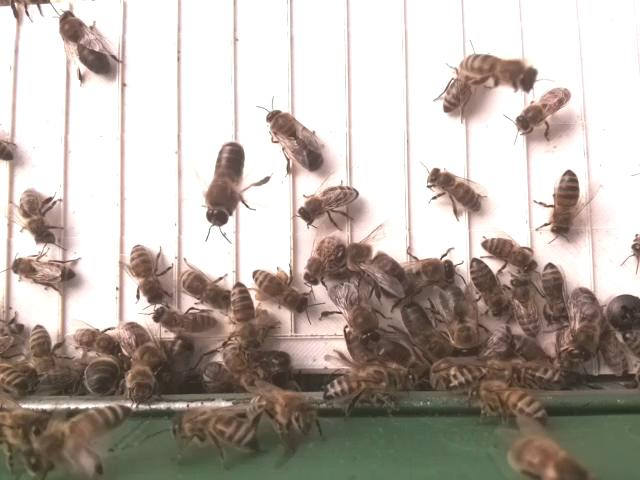Drone: (330, 239, 408, 298), (263, 104, 328, 174), (55, 6, 113, 79), (325, 275, 382, 347), (202, 140, 246, 228), (435, 280, 484, 359), (384, 255, 457, 291)
Worker: (459, 51, 538, 94), (511, 85, 573, 137), (291, 182, 363, 225), (250, 266, 312, 315), (6, 253, 81, 291), (425, 166, 484, 214), (175, 265, 233, 311), (467, 255, 508, 320), (16, 184, 58, 246), (548, 165, 580, 242), (151, 301, 221, 336), (128, 240, 165, 305), (509, 273, 543, 342), (478, 234, 539, 272), (27, 319, 60, 387), (540, 259, 572, 325), (229, 279, 259, 346), (438, 64, 476, 116)
